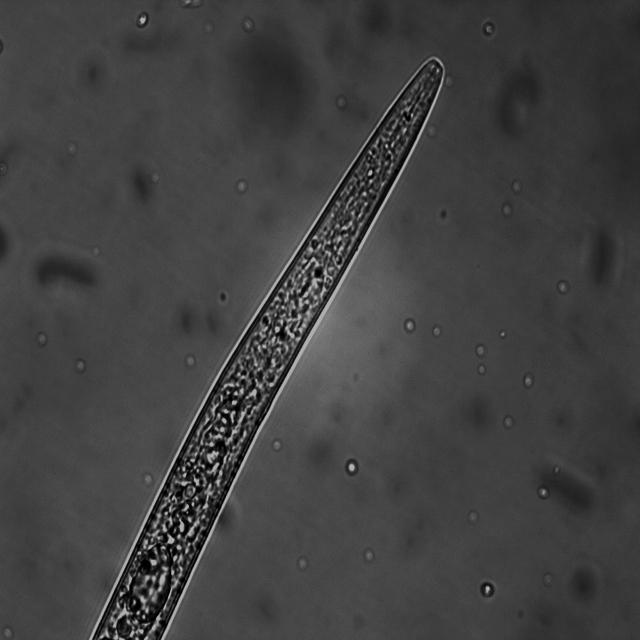Meloidogyne: (71, 51, 449, 640)
